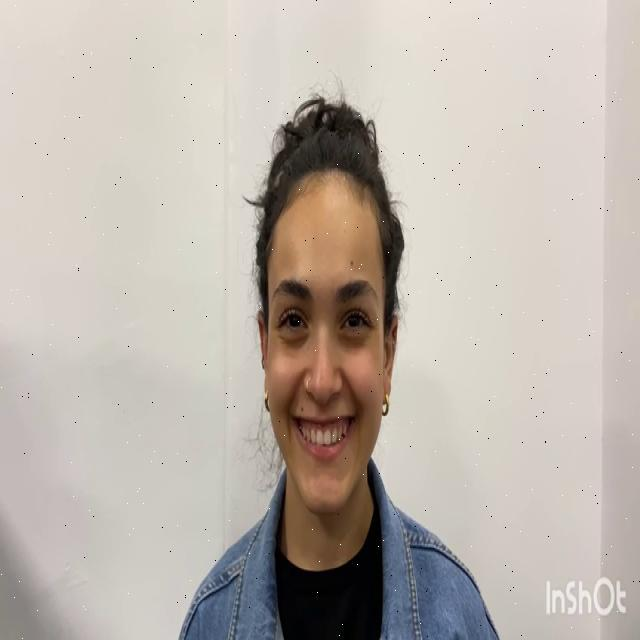Happy: (265, 170, 385, 518)
